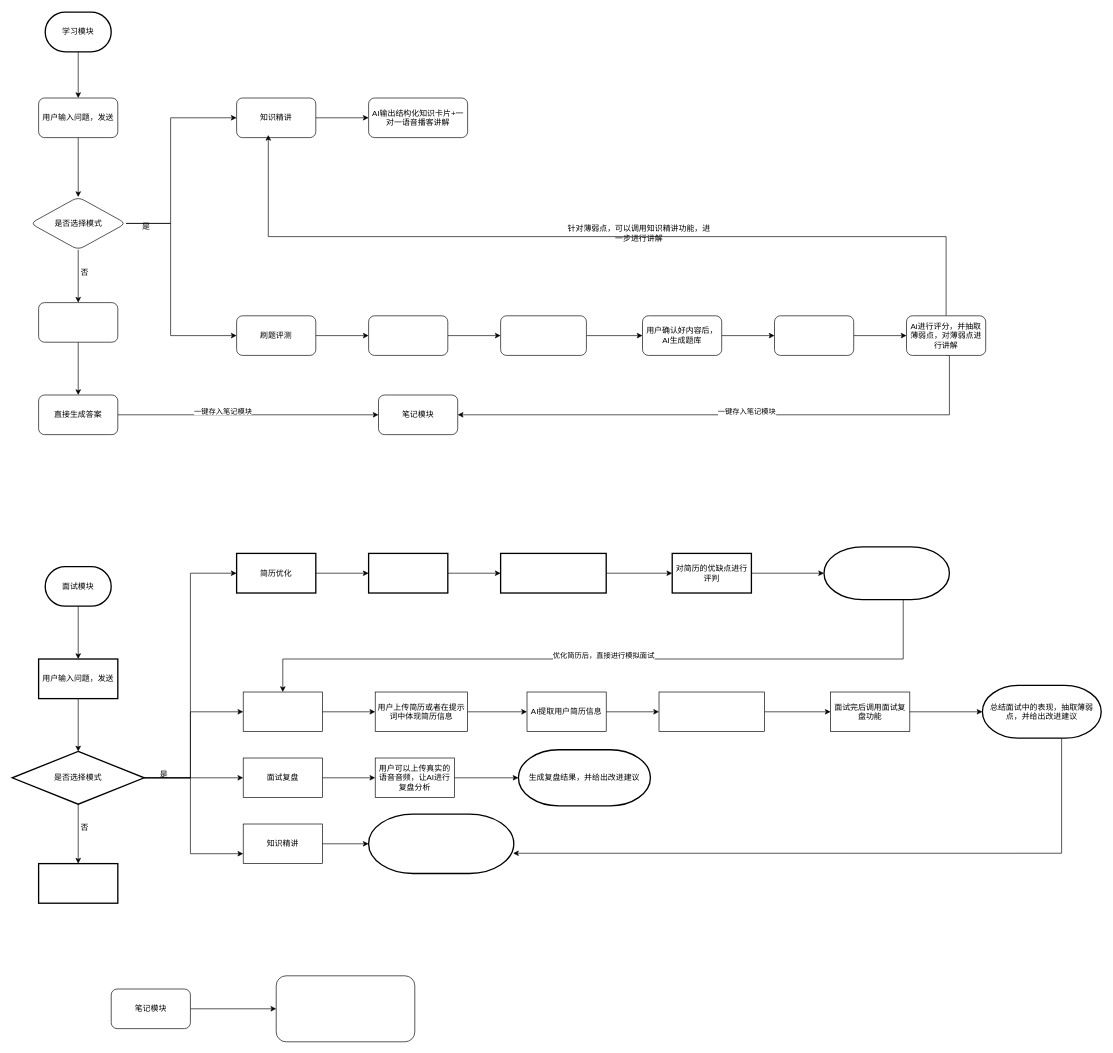
The diagram is 1113 pixels wide and 1053 high, and some of its shapes have lost their labels. Here are the shapes that lost their labels. From the top down, the centre of each, then its label:
the point at 78,322: 快速回答
the point at 408,335: 用户输入某个岗位、某些技术栈题目需求，或者上传简历
the point at 543,335: AI需要二次跟用户确认题型、题目难度、题量
the point at 814,335: 用户进行答题，提交答案
the point at 408,572: 用户上传简历，或者输入简历资料
the point at 553,572: AI对简历进行深度分析
the point at 886,573: 重新生成一份优化后的简历，简历可以下载为word文档
the point at 282,711: 模拟面试
the point at 711,711: 调用语音识别和语音合成模型进行一对一的语音面试
the point at 441,843: 针对难点问题，AI输出结构化知识卡片+一对一语音播客讲解
the point at 78,883: 快速回答（默认）
the point at 345,1008: 面试模块中，AI生成的有价值的内容，可以一键添加到笔记中存储
